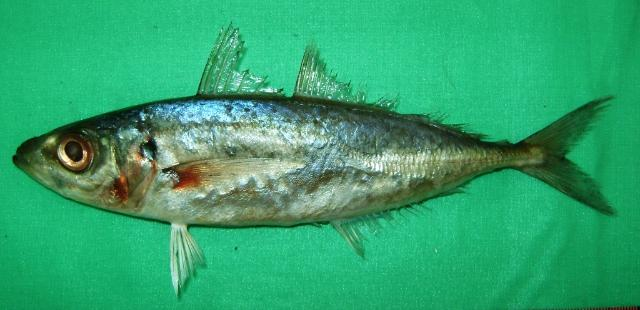Mulut: (7, 139, 49, 201)
Sirip Anal: (328, 171, 480, 263)
Sirip Dada: (163, 144, 305, 202)
Sirip Ekor: (527, 79, 627, 225)
Sirip Perut: (160, 213, 212, 307)
Sirip Punggung: (185, 14, 389, 124)
